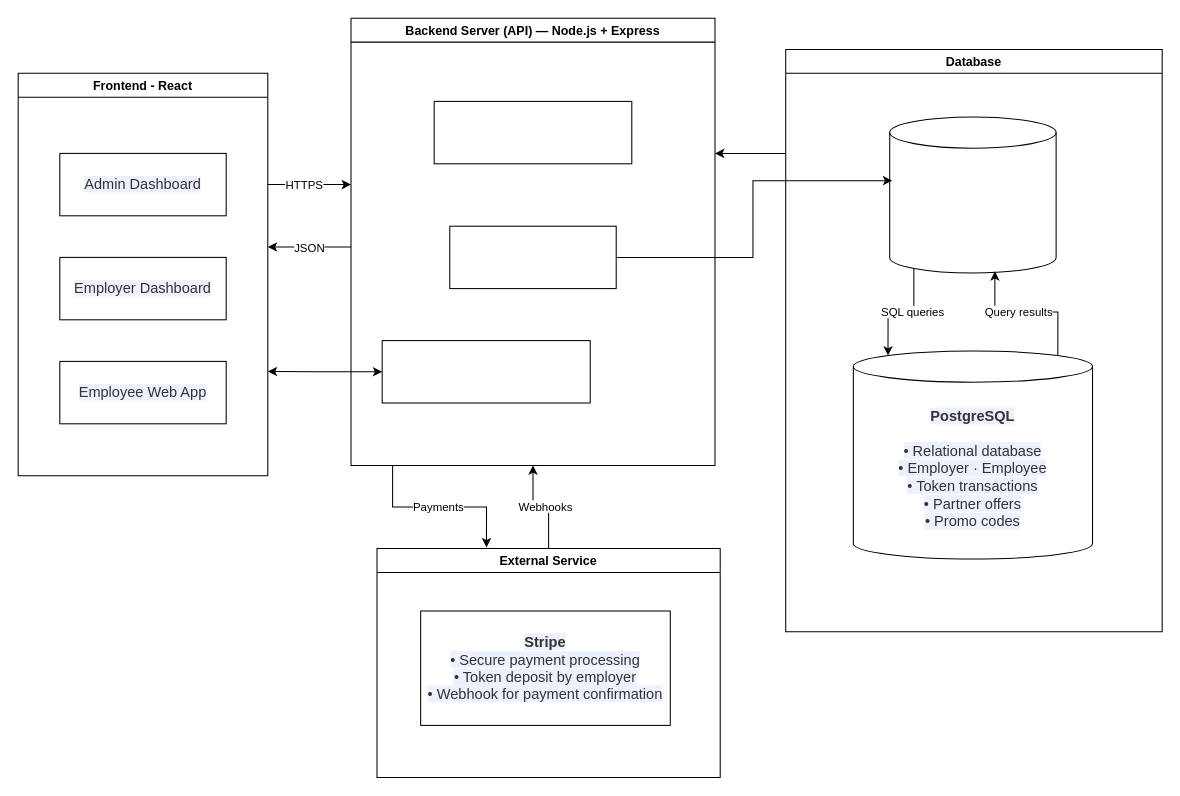
Image size: 1180x796. Some labels were removed from this diagram. Each missing label, with the centre of its shape:
"Apply business logic • Token management • Promo code delivery" goes at point (532, 257).
"Authentication & Authorization (JWT + bcrypt)" goes at point (485, 371).
"Expose REST API endpoints" goes at point (532, 132).
"Prisma ORM • Type-safe ORM" goes at point (972, 194).
